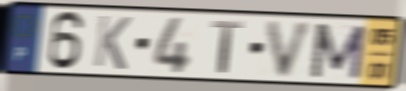4: (151, 15, 192, 75)
6: (46, 10, 86, 72)
K: (91, 13, 134, 72)
M: (307, 21, 369, 81)
T: (210, 18, 245, 75)
V: (264, 19, 317, 80)
